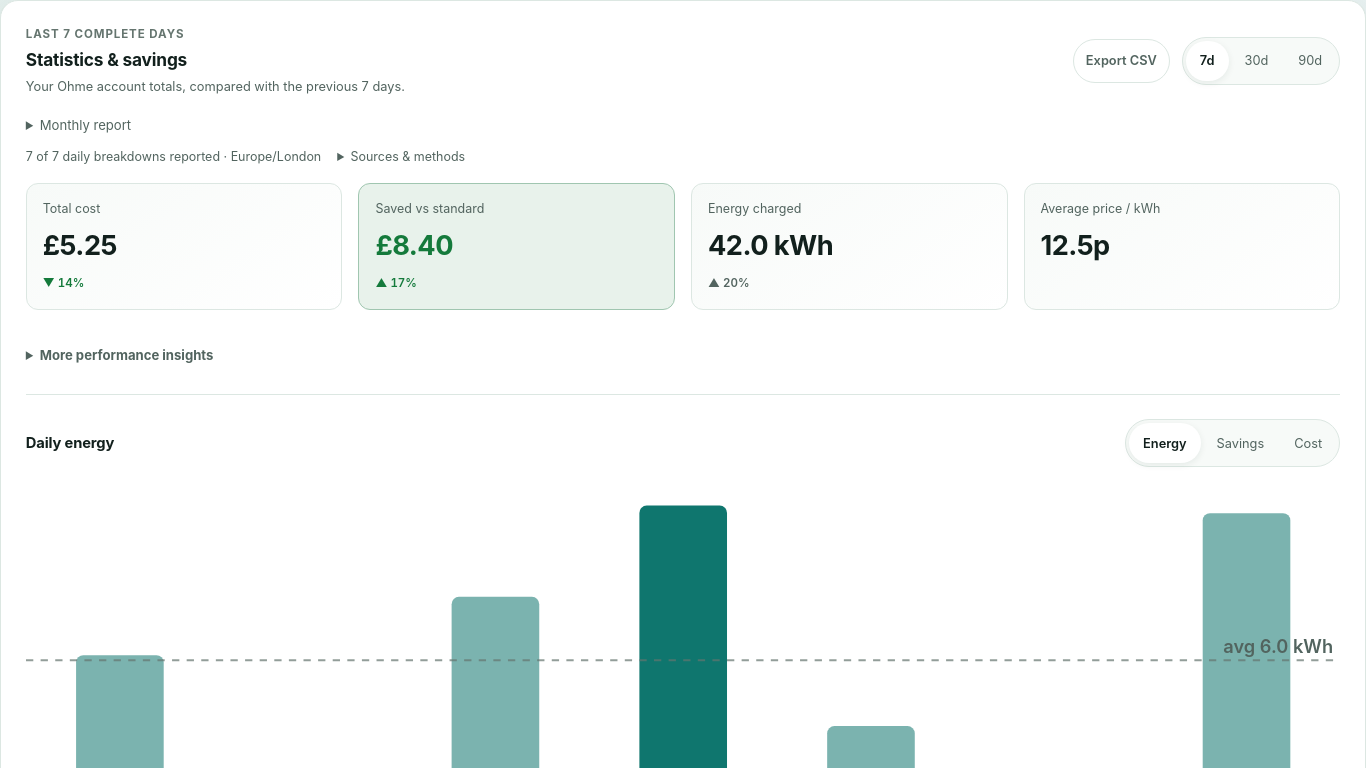
StatisticsSection insights › explains the local evidence required when matched metrics are unavailable
Click the heading "Sources & methods" at (401, 157), box [337, 148, 465, 167]
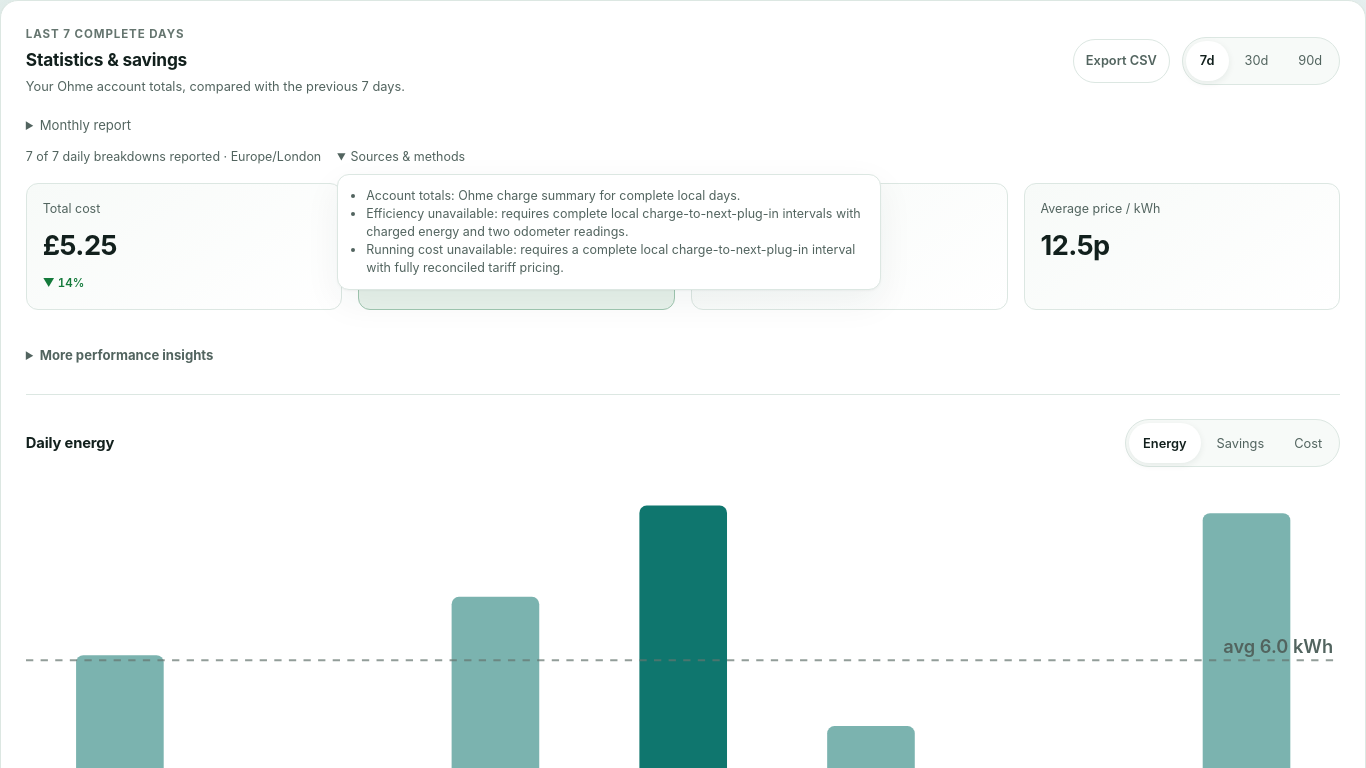
Now the list item "Account totals: Ohme charge summary for complete local days." is shown, box [366, 188, 740, 203]
Now the list item "Efficiency unavailable" shows "charged energy and two odometer readings", box [366, 206, 861, 239]
Now the list item "Running cost unavailable" shows "fully reconciled tariff pricing", box [366, 242, 855, 275]
